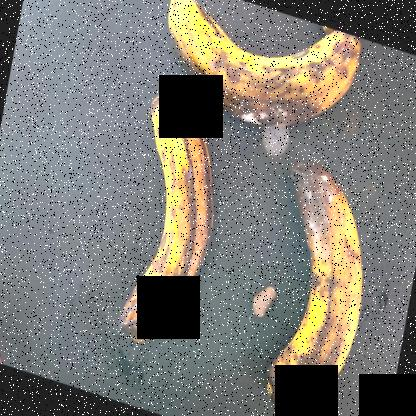rotten: (253, 155, 370, 415), (106, 91, 216, 367), (162, 0, 372, 140)
